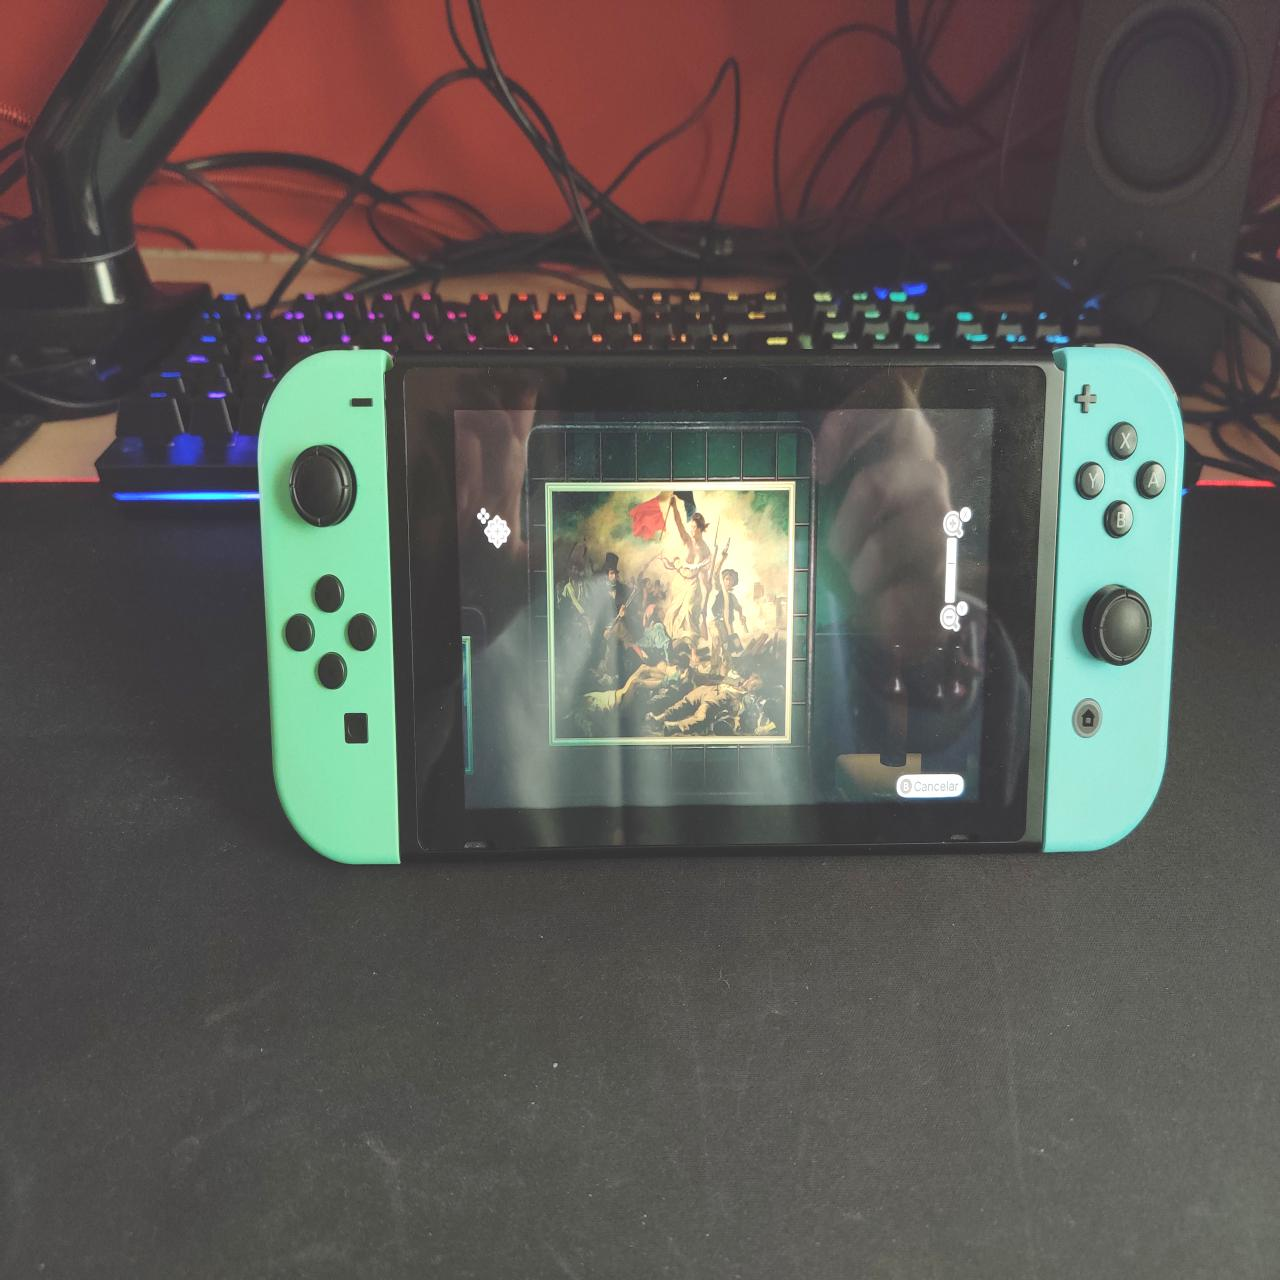LibertyLeading: (553, 492, 789, 741)
